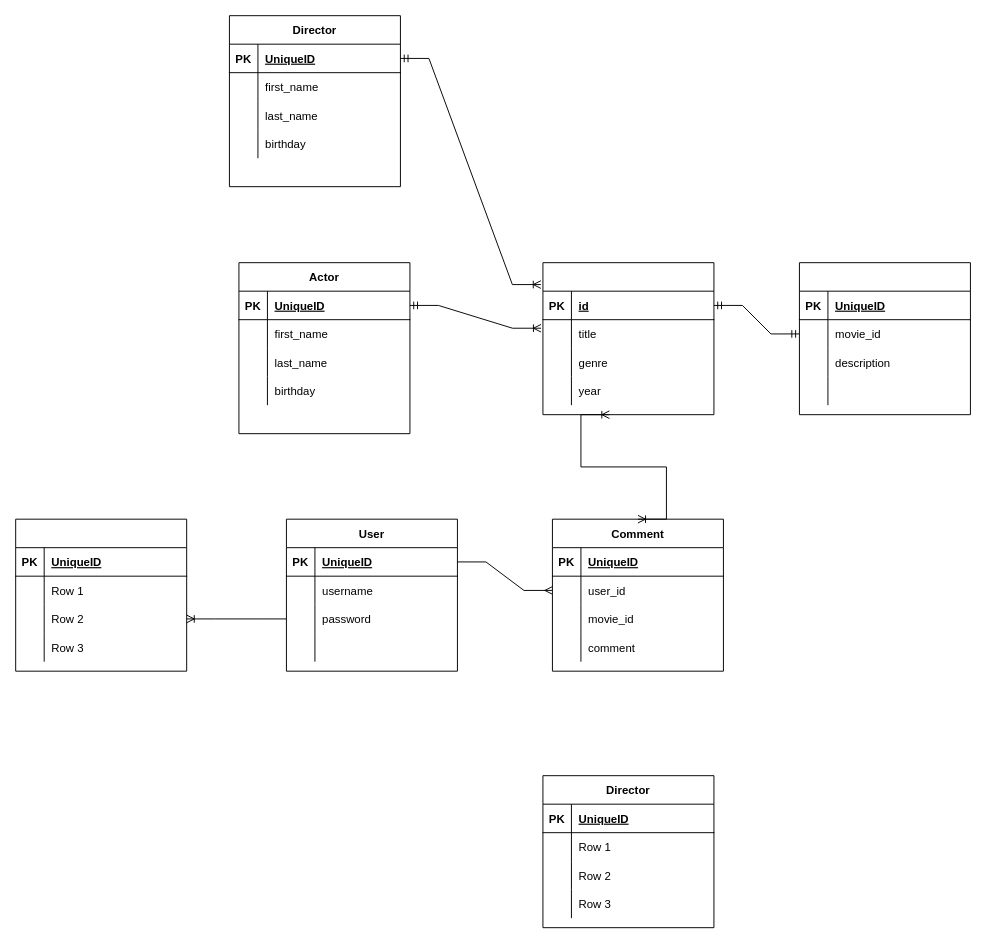
This 986x943 diagram has some shape labels left out. Here are the shapes that lost their labels. From the top down, the box of each, then its label:
(542, 262, 714, 415): Movie
(798, 262, 970, 415): Movie_Detail
(15, 518, 187, 671): Role
